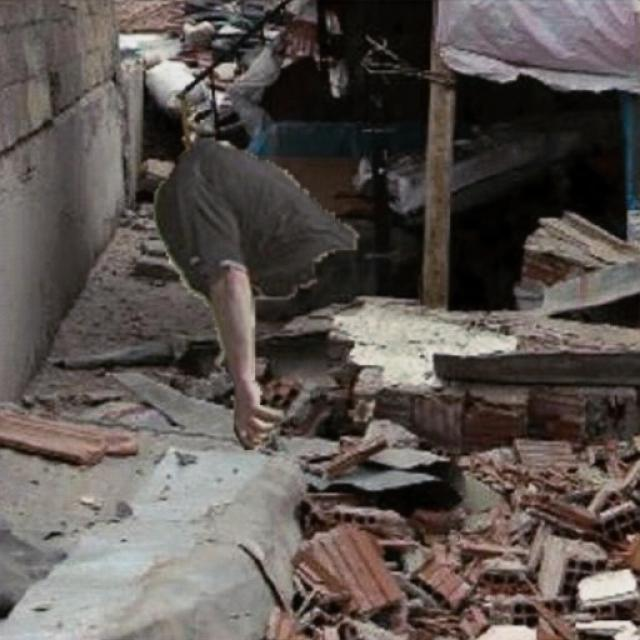Person in Rubble: (154, 138, 374, 448)
